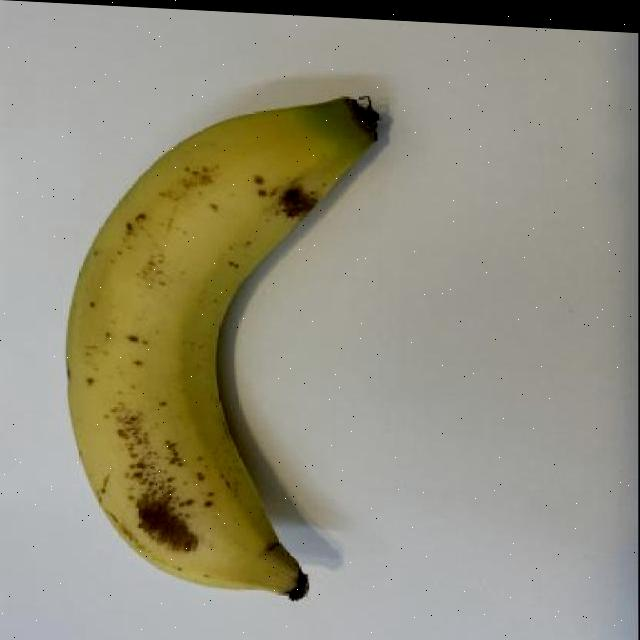banana: (61, 82, 381, 607)
